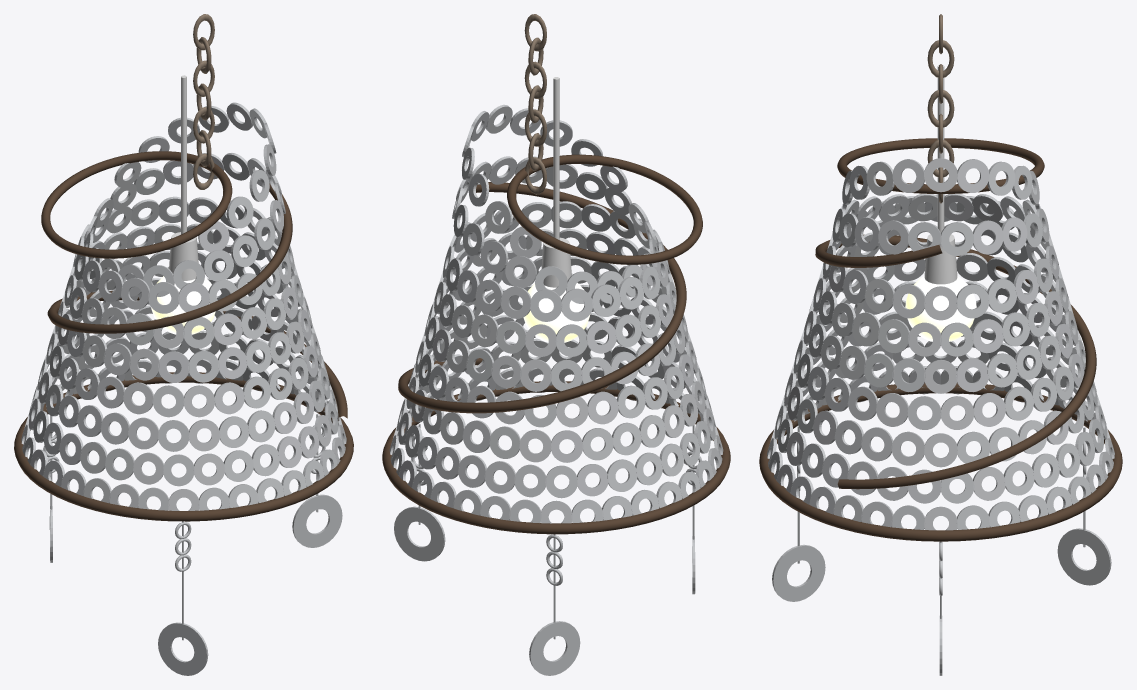
Rendered from study-lamp.glb.
3 renders of one model, left to right at view 1: azimuth 30°, elevation 25°; view 2: azimuth 150°, elevation 25°; view 3: azimuth 270°, elevation 25°, orthographic. The views are drawn at different scales.
Visible parts, largest first — view 1: shade, bottom-rim, top-rim, spiral-band, chain, strand-2, strand-1, cord, bulb, holder; view 2: shade, bottom-rim, spiral-band, top-rim, strand-3, chain, strand-1, bulb, cord, holder; view 3: shade, bottom-rim, spiral-band, top-rim, strand-2, strand-3, chain, bulb, holder, cord.
Part boxes in pixels (<box>): shade: <box>21,102,346,510</box>; bottom-rim: <box>14,372,353,521</box>; top-rim: <box>41,151,232,258</box>; spiral-band: <box>47,183,347,420</box>; chain: <box>193,14,214,189</box>; strand-2: <box>158,521,208,675</box>; strand-1: <box>292,414,342,547</box>; cord: <box>181,75,186,234</box>; bulb: <box>151,276,216,334</box>; holder: <box>169,232,198,280</box>; shade: <box>389,104,723,523</box>; bottom-rim: <box>382,381,730,534</box>; spiral-band: <box>398,182,686,413</box>; top-rim: <box>507,154,702,264</box>; strand-3: <box>529,534,580,675</box>; chain: <box>524,14,546,194</box>; strand-1: <box>394,424,445,561</box>; bulb: <box>523,282,590,342</box>; cord: <box>553,77,559,239</box>; holder: <box>541,237,571,287</box>; shade: <box>767,158,1114,530</box>; bottom-rim: <box>759,382,1122,541</box>; spiral-band: <box>815,234,1096,489</box>; top-rim: <box>837,138,1044,193</box>; strand-2: <box>772,426,825,601</box>; strand-3: <box>1057,427,1111,585</box>; chain: <box>927,14,954,203</box>; bulb: <box>905,276,976,341</box>; holder: <box>924,234,957,284</box>; cord: <box>937,65,944,232</box>.
Size of the model in its own units: 1.37 by 2.54 by 1.32.
